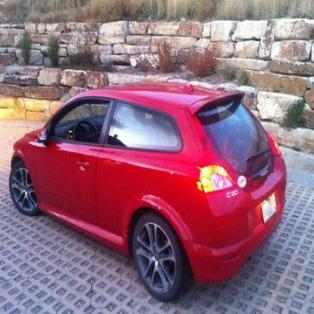Auto: (7, 77, 290, 308)
